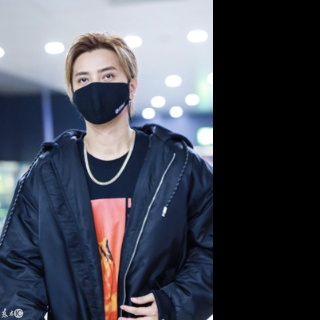with_mask: (72, 64, 130, 126)
